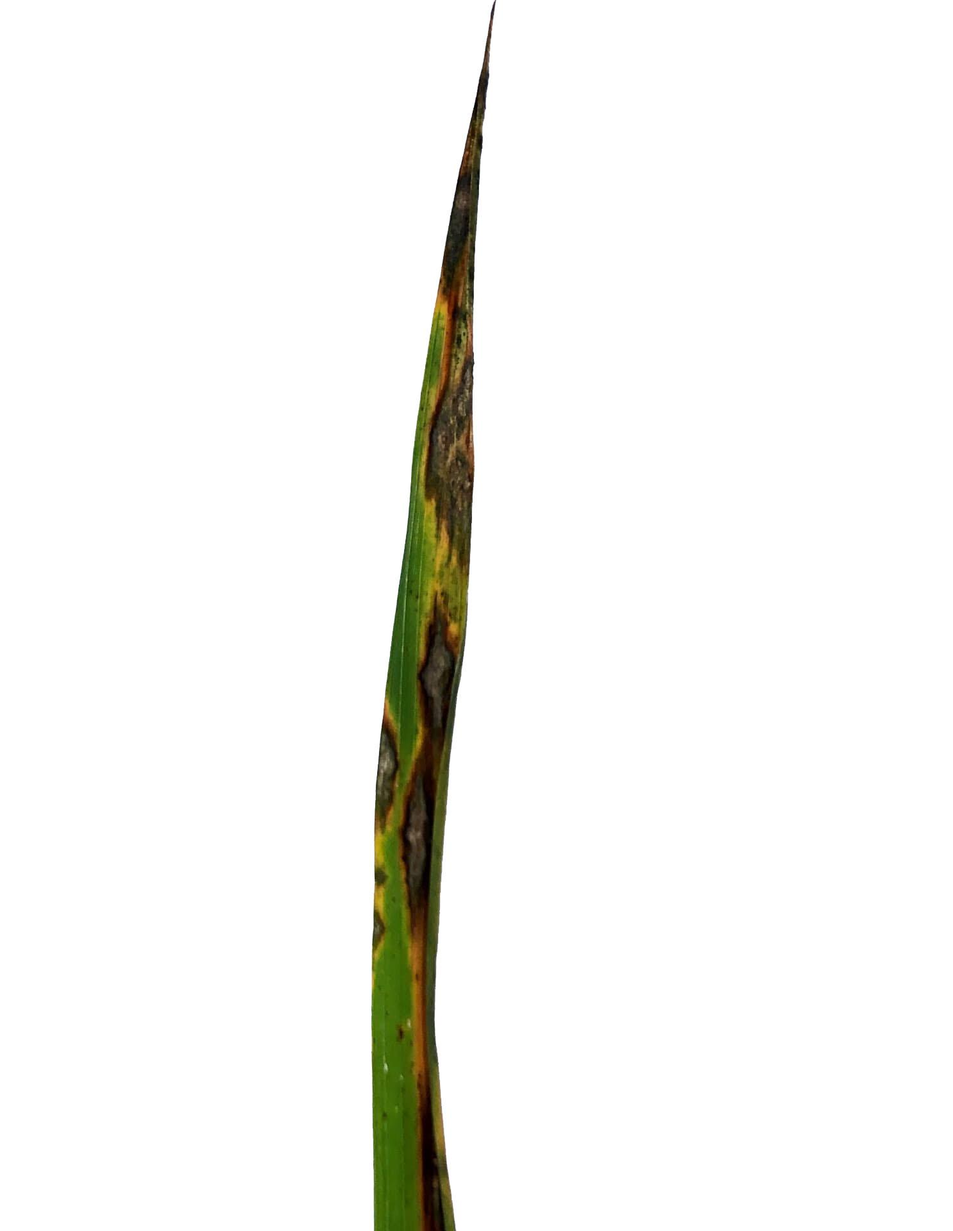Rice blast: (391, 115, 478, 1061)
